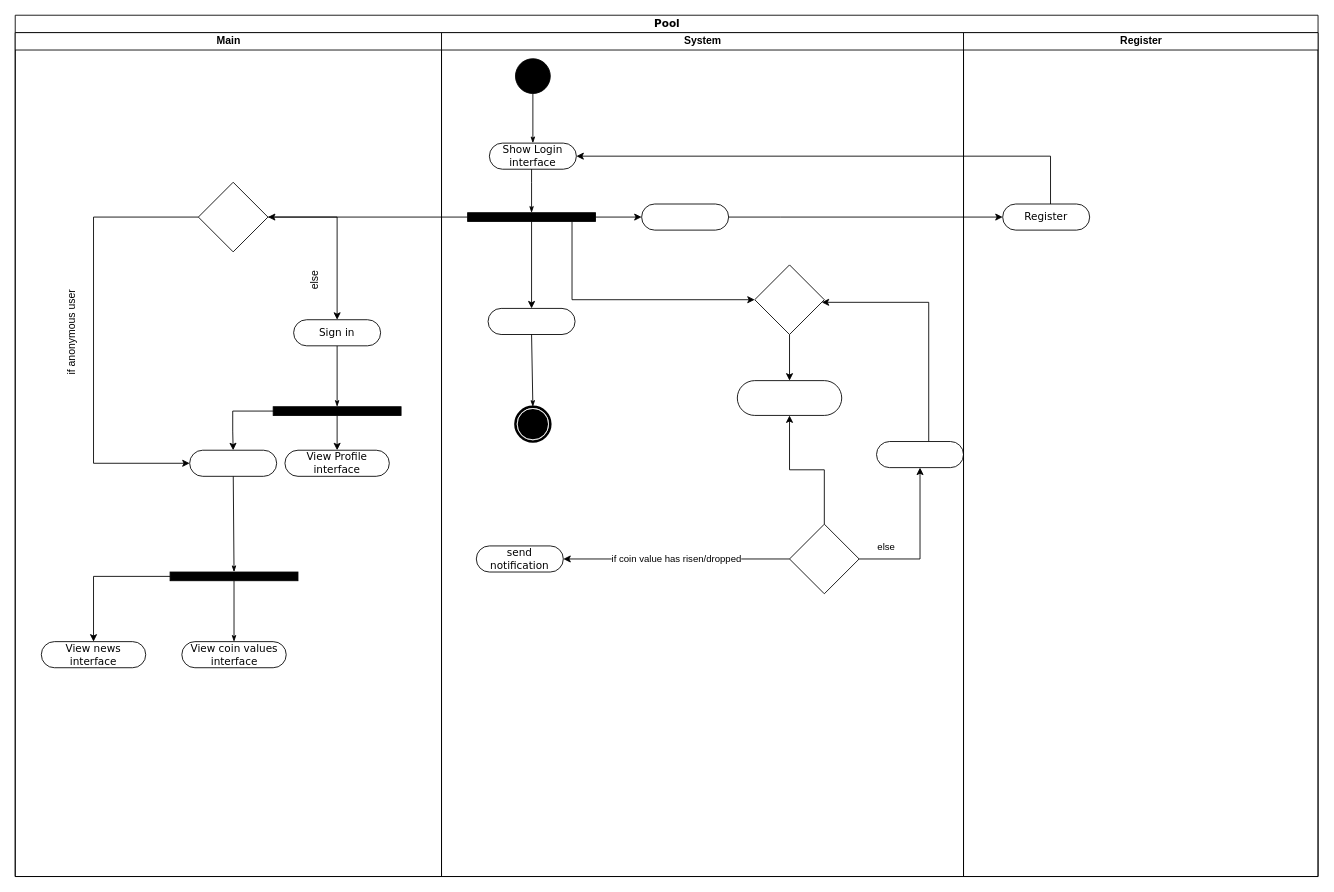
Some shapes in this 1334 by 892 pixel diagram are drawn without their labels. The shapes that lost their labels are listed below. From the top down, each one's centre as x and y in pixels, then its label:
[685,216]: Show Register Inteface
[531,321]: Exit app
[789,397]: check if coin value has risen/drop
[233,462]: Show home interface
[920,454]: Wait for new coin value
